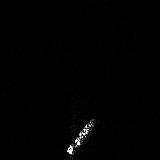ship: (62, 114, 99, 158)
